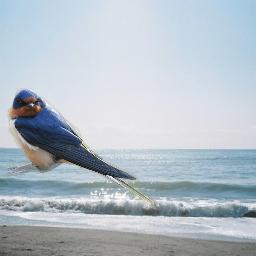Swallow: (7, 88, 161, 210)
